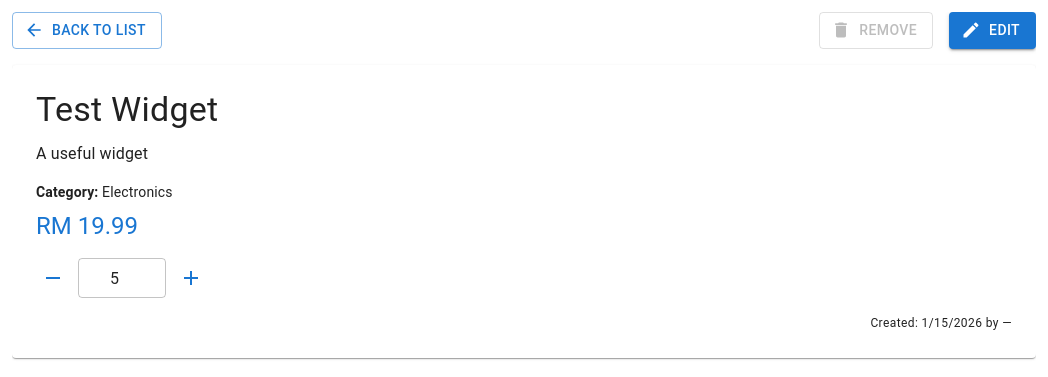
Scenario: ProductDetailPage › shows "Update" button after incrementing quantity
expect the heading "Test Widget" is shown: met, box [36,88,218,128]
Click the button named "increase quantity" at (191,278), box [174,261,208,295]
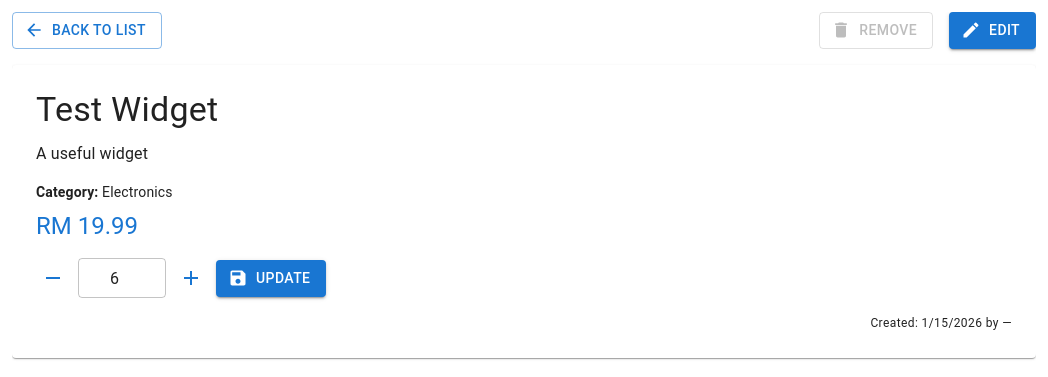
expect the button "Update" is shown: met, box [216,260,326,297]
